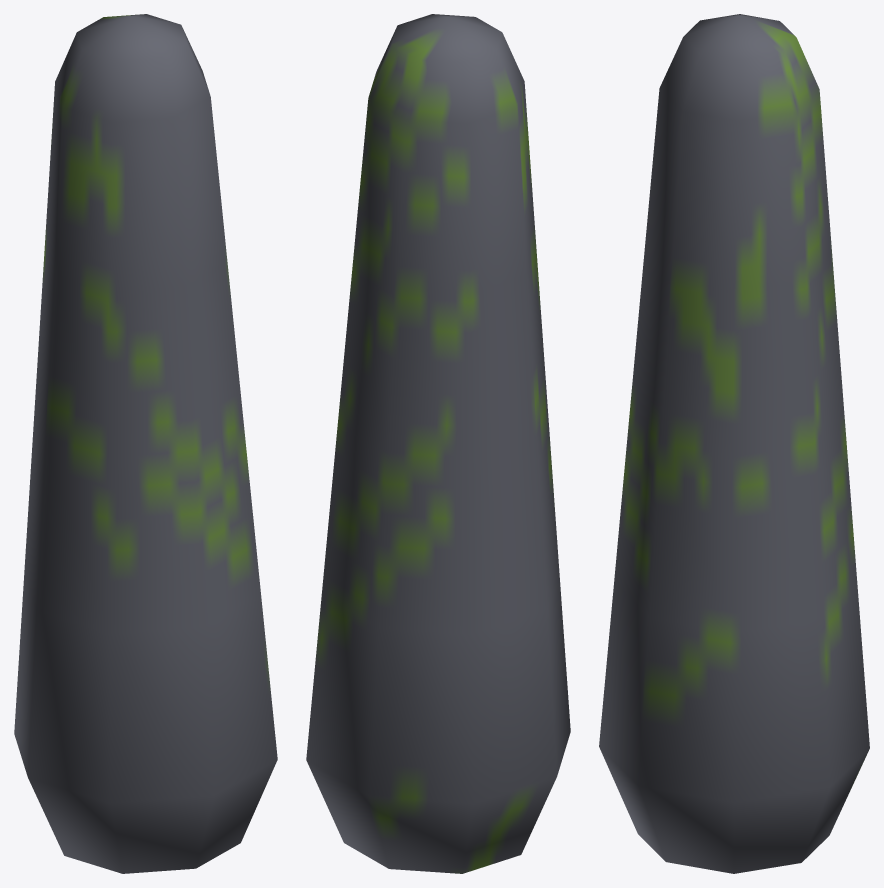
Rendered from prop_menhir3_1f0f.glb.
3 views of the same model, side by side, from view 1: azimuth 30°, elevation 25°; view 2: azimuth 150°, elevation 25°; view 3: azimuth 270°, elevation 25° (orthographic).
Visible parts, largest first — view 1: prop_menhir3_1f0f; view 2: prop_menhir3_1f0f; view 3: prop_menhir3_1f0f.
Boxes of the visible parts, x1,y1,x2,y2 form: prop_menhir3_1f0f: [14, 14, 277, 873]; prop_menhir3_1f0f: [306, 14, 570, 873]; prop_menhir3_1f0f: [599, 14, 869, 873].
Bounding box in the file's own units: 0.3889 × 1.34 × 0.389.
1 material, 1 textured.
